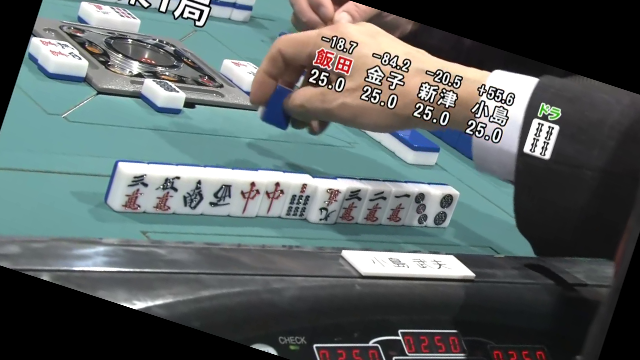Tehai: (102, 148, 458, 235)
